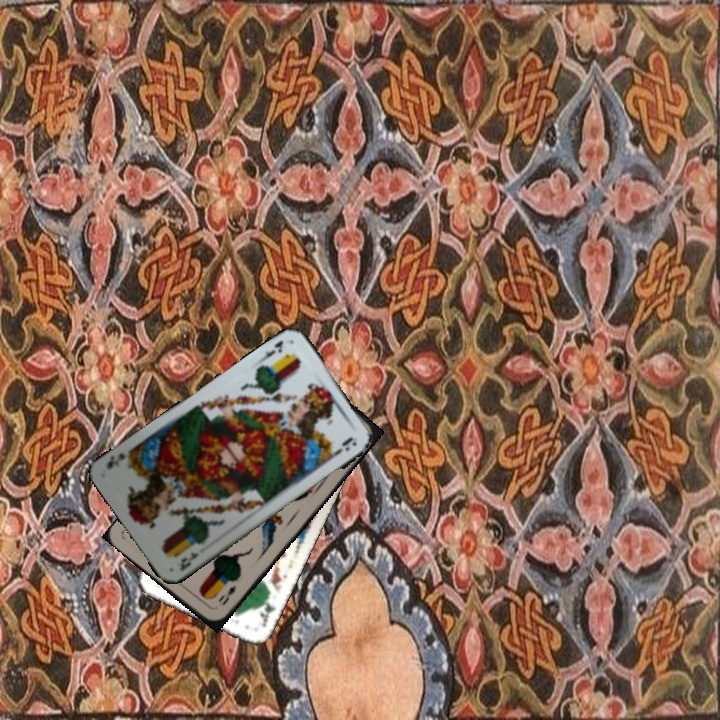EK: (256, 336, 286, 364), (176, 548, 201, 574)
EO: (214, 581, 239, 609)
GK: (256, 591, 278, 630)
